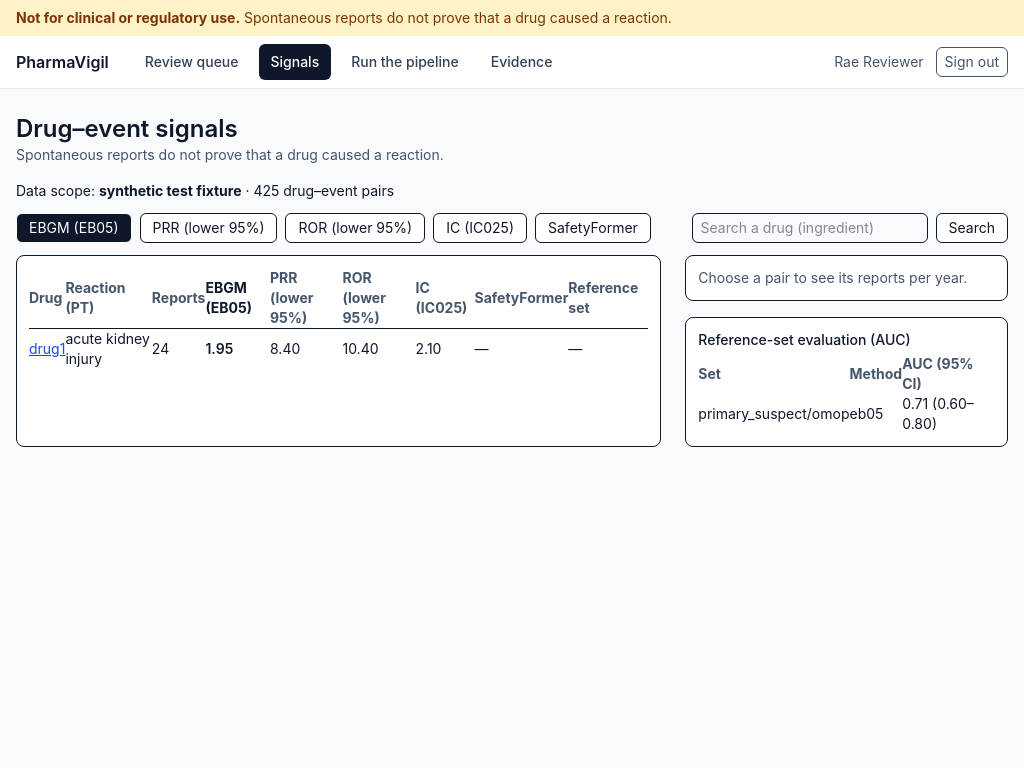
Scenario: SignalsPage › shows the yearly trend of a chosen pair as a chart and a table
Click the button "drug1" at (47, 349), box [29, 339, 65, 359]
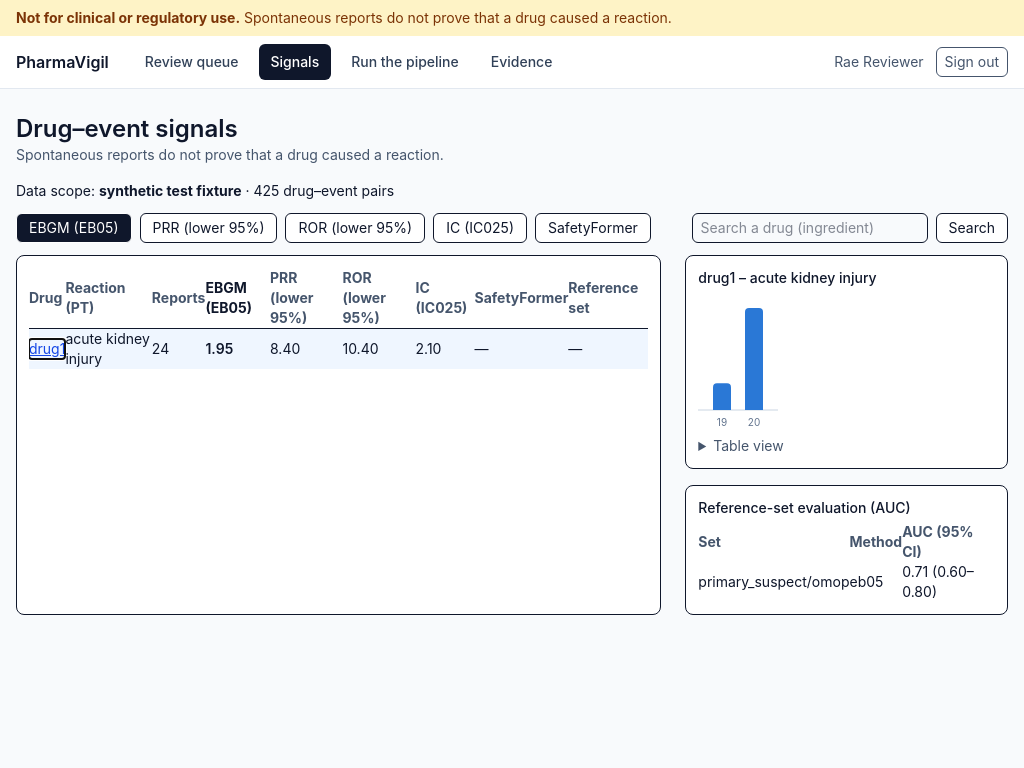
Now the picture named "reports per year" is shown, box [698, 292, 778, 432]
